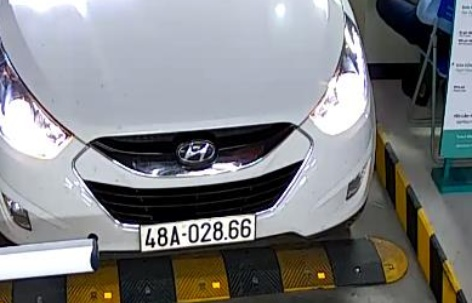plate: (136, 216, 257, 249)
